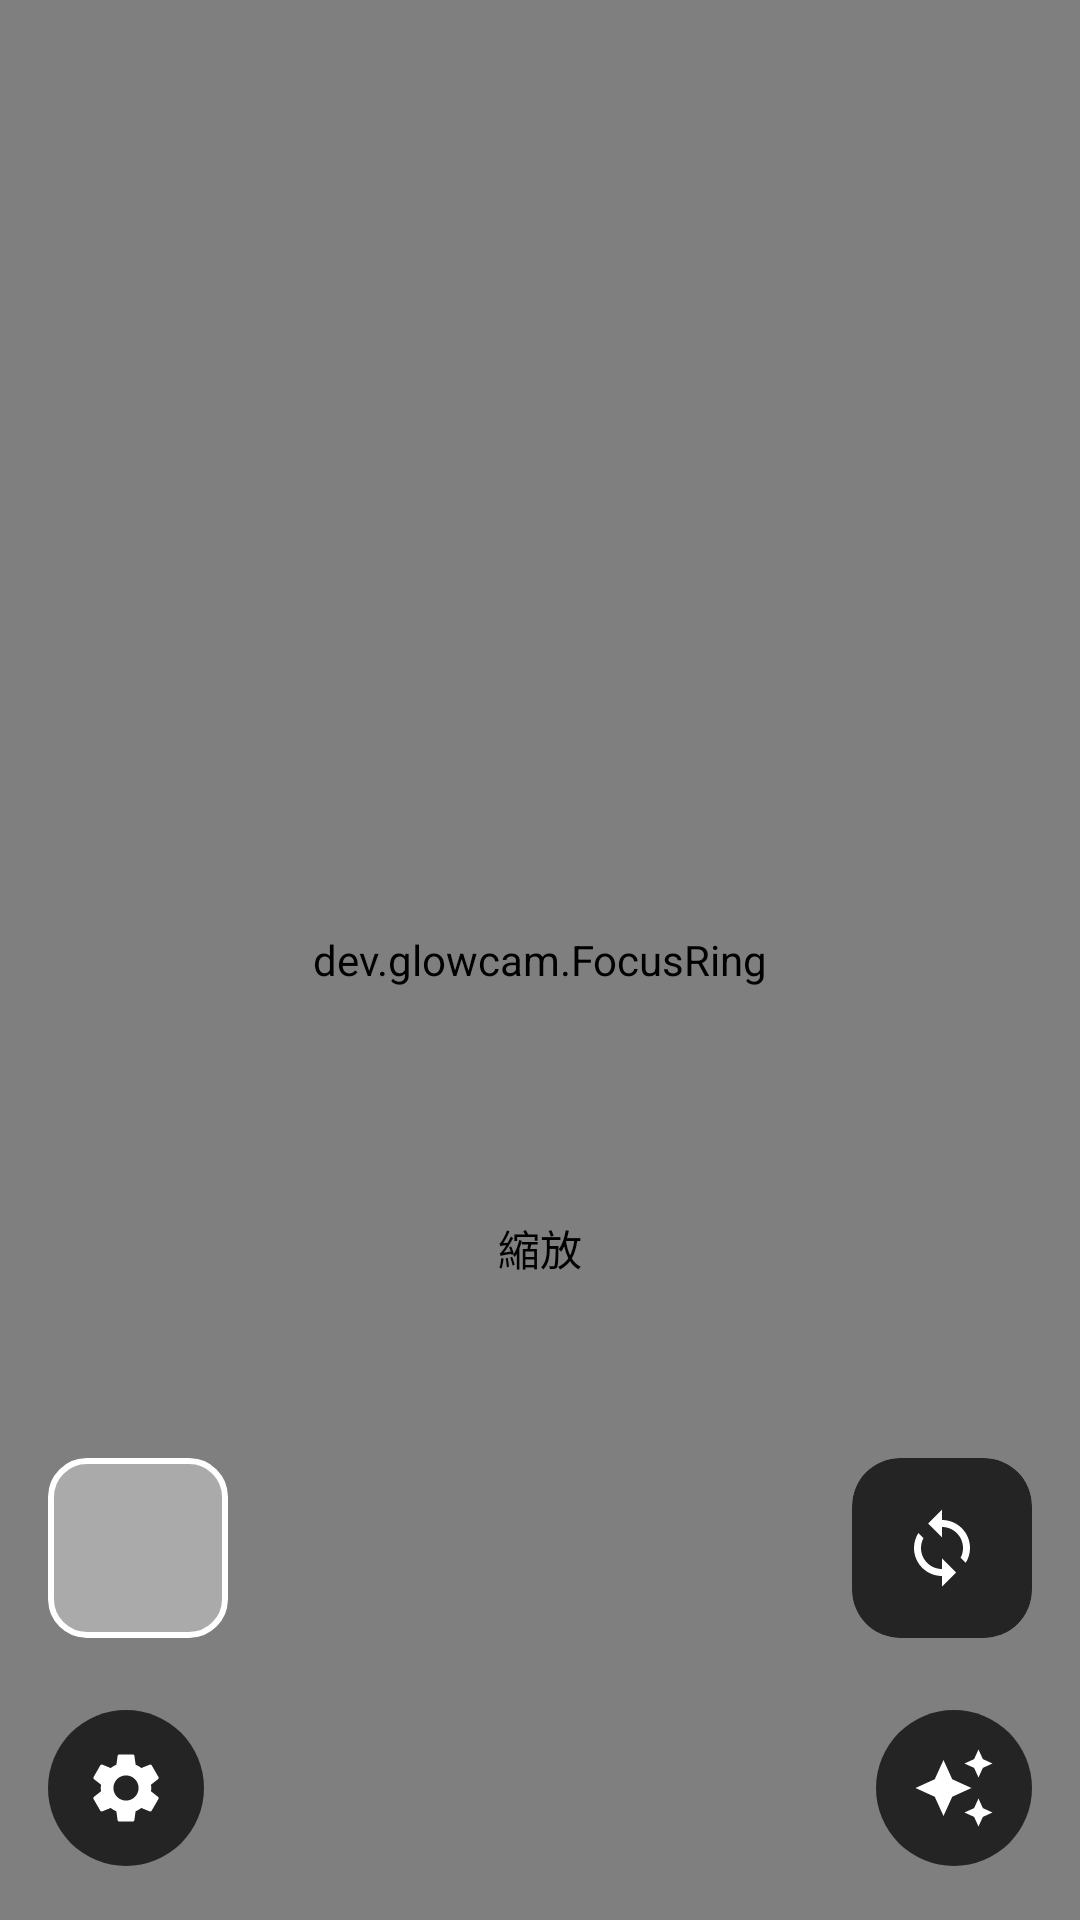

Named icons in this screenshot (1080*1920) and their centers, point (x, y):
切換鏡頭: point (942, 1548)
設定: point (126, 1788)
風格: point (954, 1788)
